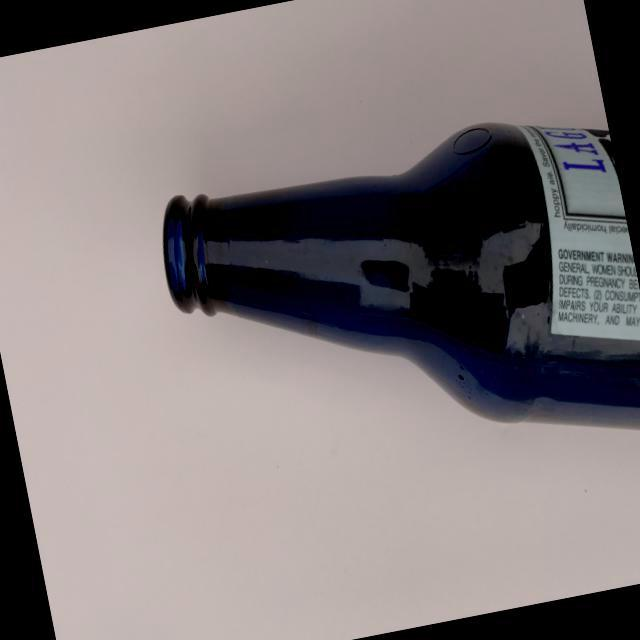glass: (124, 82, 640, 538)
